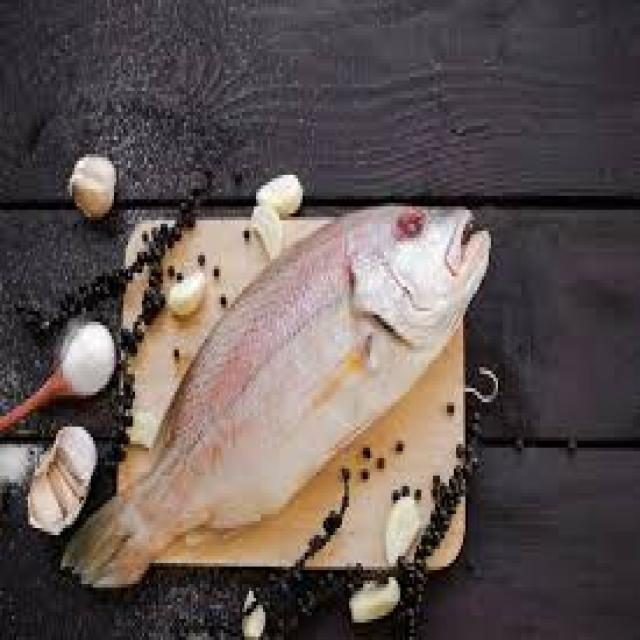Fish: (56, 190, 505, 606)
